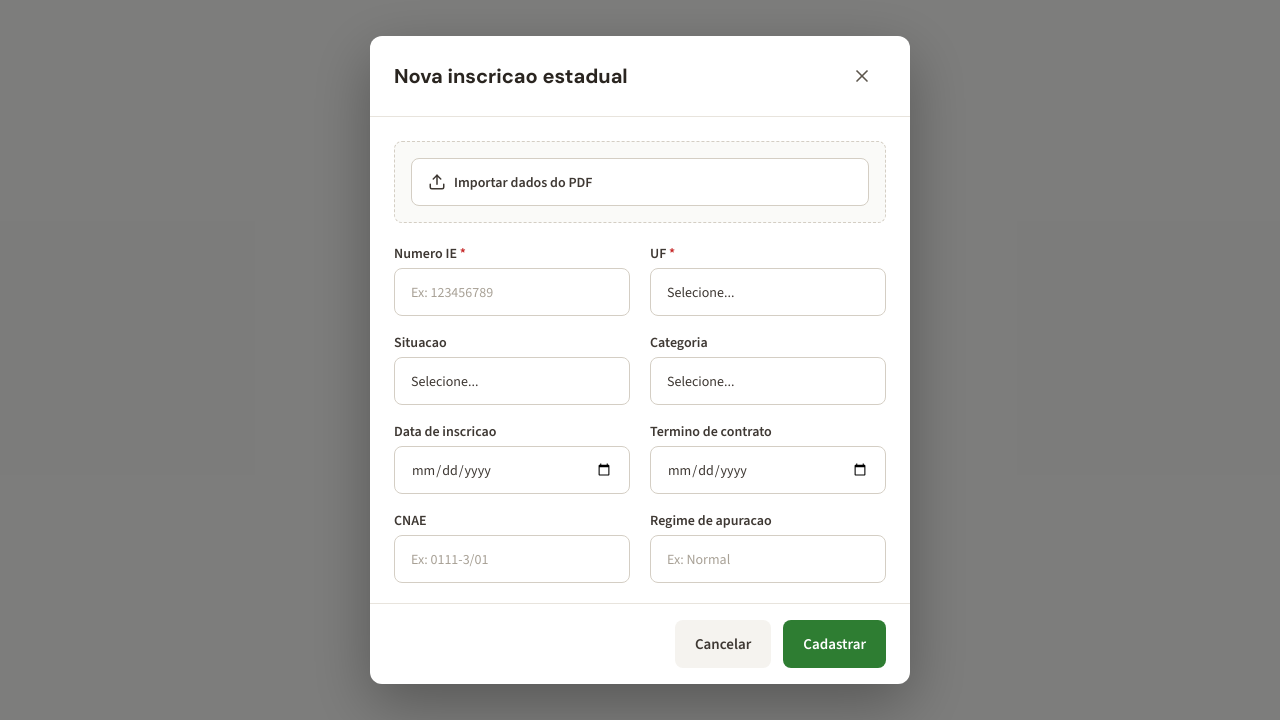
Scenario: IeFormModal › should not submit with validation errors
What coordinates should you click on to do the following:
click the button "Cadastrar"
I would click on:
 (835, 644)
Its box is [783,620,886,668].
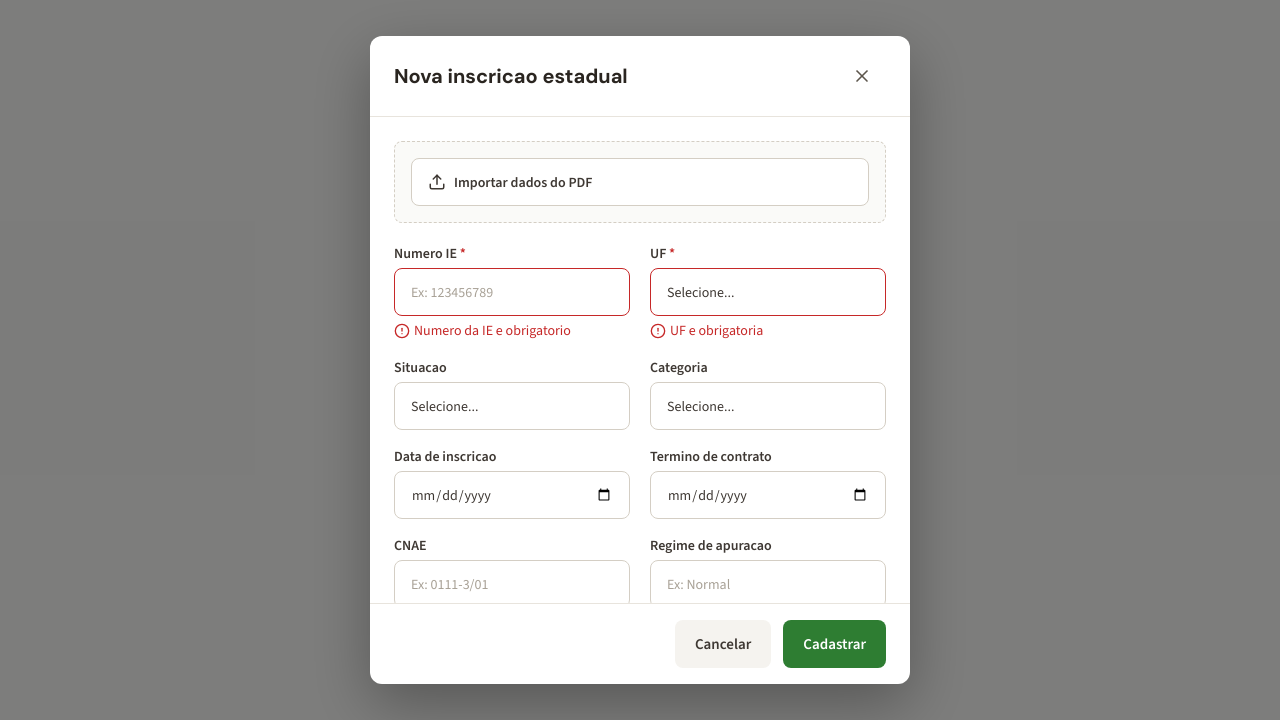
Expected: the text "Numero da IE e obrigatorio" is shown, [394,321,571,340]
Expected: the text "UF e obrigatoria" is shown, [650,321,763,340]
